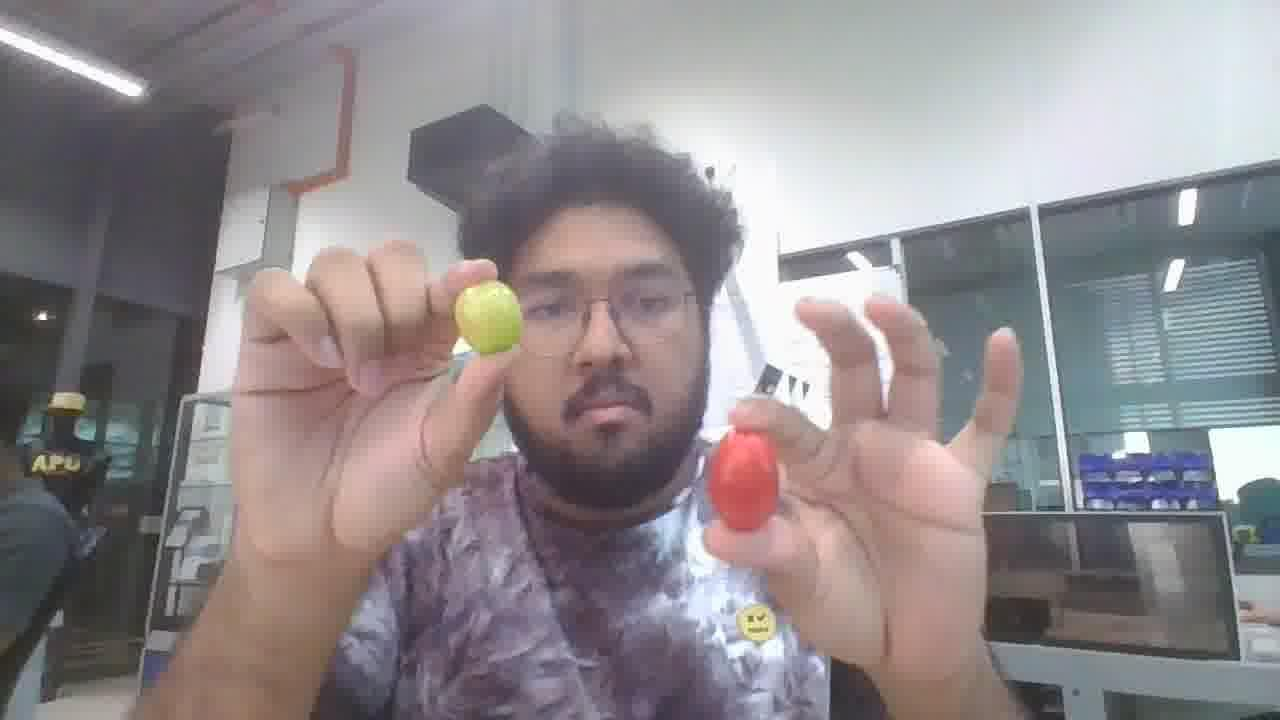green_cherry_tomato: (454, 280, 522, 354)
red_cherry_tomato: (708, 429, 779, 531)
